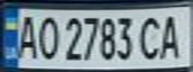2: (60, 12, 84, 62)
3: (115, 14, 139, 61)
7: (78, 14, 100, 62)
8: (97, 14, 118, 62)
A: (12, 11, 42, 61), (157, 11, 187, 61)
C: (136, 12, 166, 61)
O: (33, 12, 60, 61)
